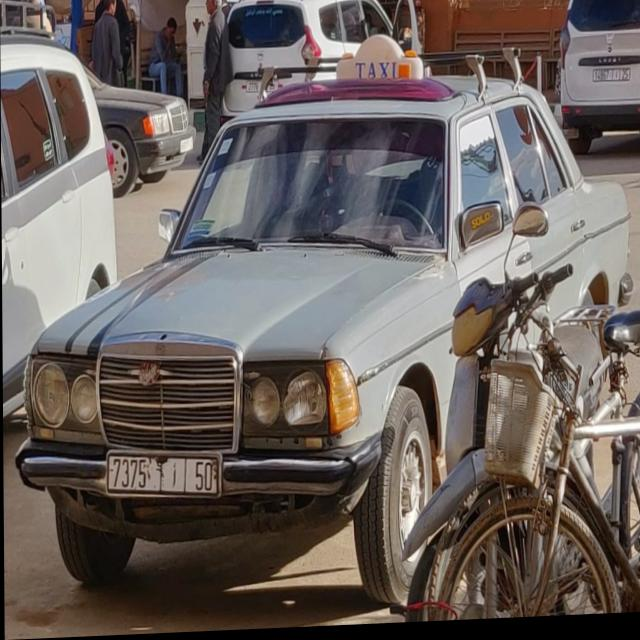License-Plate: (105, 454, 220, 496), (592, 74, 631, 88), (246, 84, 278, 95), (180, 138, 193, 154)
